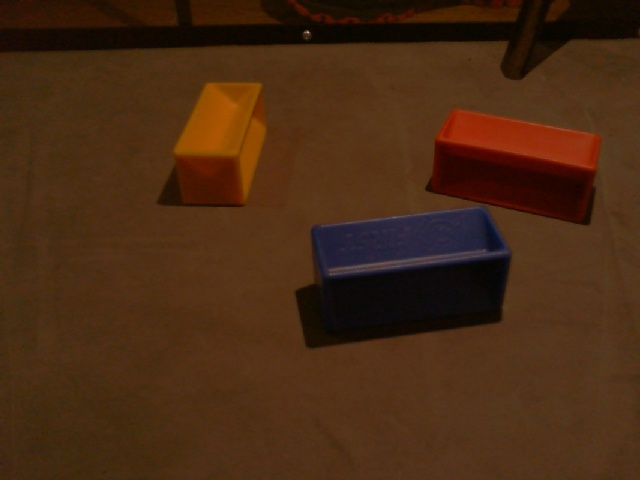BlueSample: (309, 204, 513, 327)
RedSample: (430, 106, 606, 227)
YellowSample: (170, 78, 269, 209)
